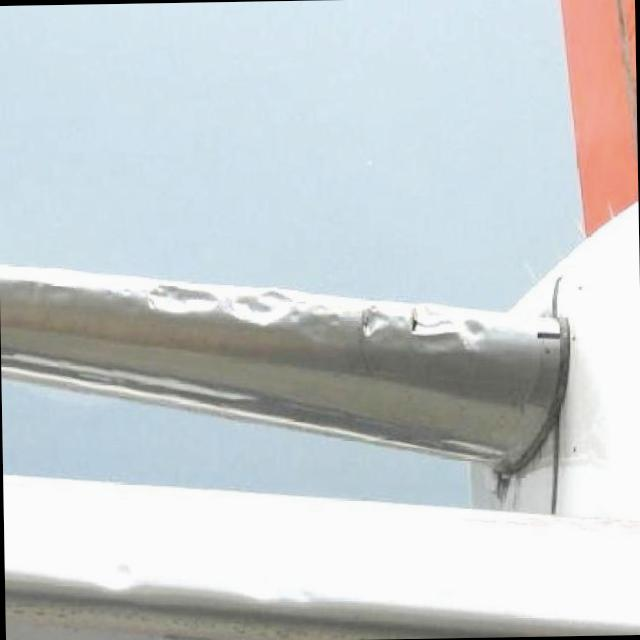dent: (222, 288, 298, 328), (143, 282, 220, 317), (408, 304, 454, 342), (101, 557, 142, 597), (356, 302, 394, 338), (458, 320, 493, 350)
